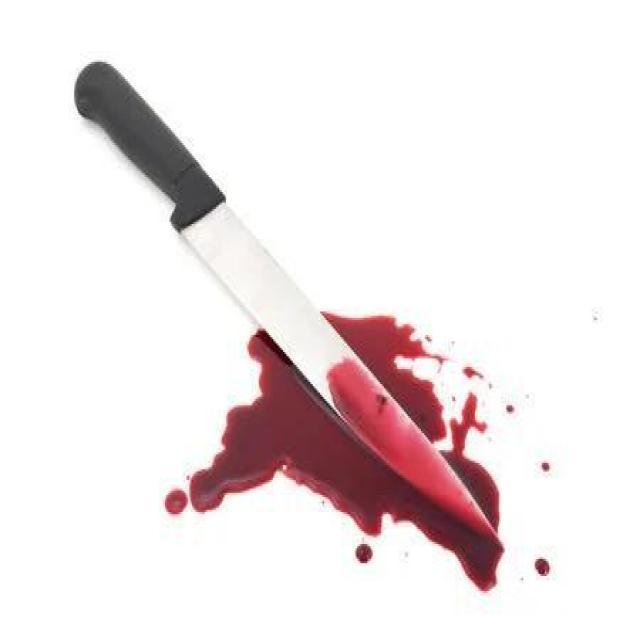flood: (216, 293, 504, 579)
